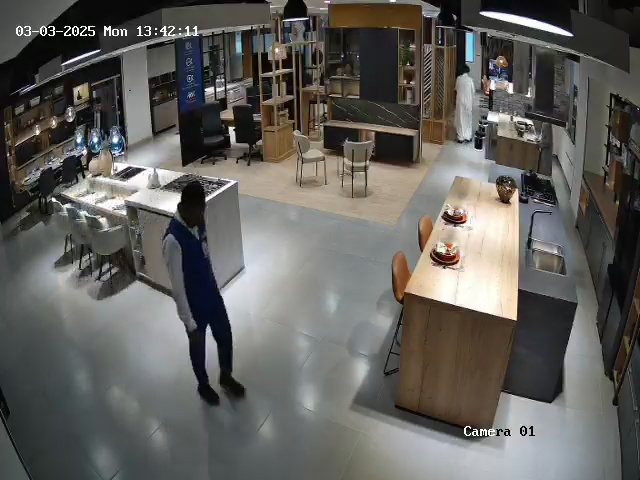employee: (162, 180, 247, 407)
male: (453, 64, 476, 144)
